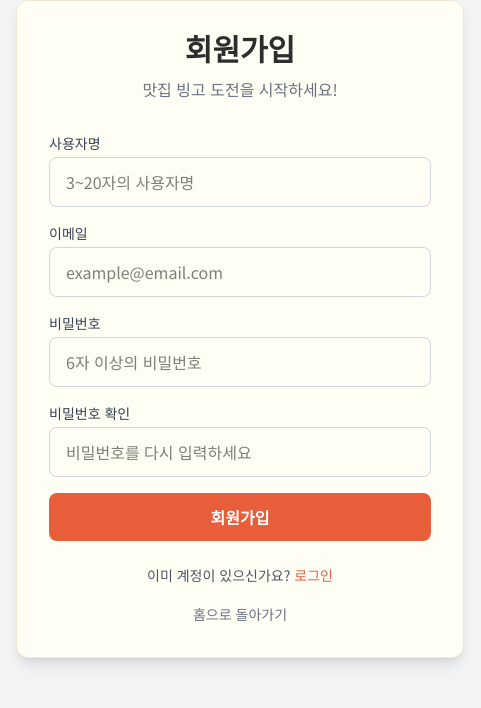
Test: RegisterPage › 에러 처리 › 입력 시 해당 필드의 에러가 제거되어야 한다
Type "test" into the field labelled "사용자명".
click(240, 182); type("test")  # box x1=49 y1=157 x2=431 y2=207
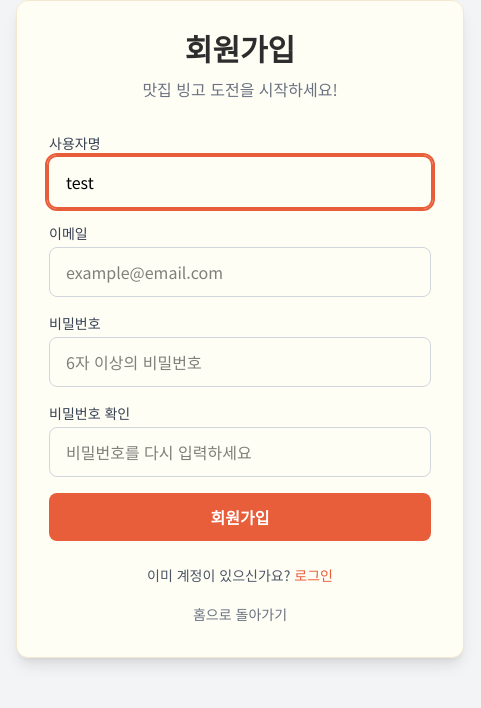
Type "test@test.com" into the field labelled "이메일".
click(240, 272); type("test@test.com")  # box x1=49 y1=247 x2=431 y2=297
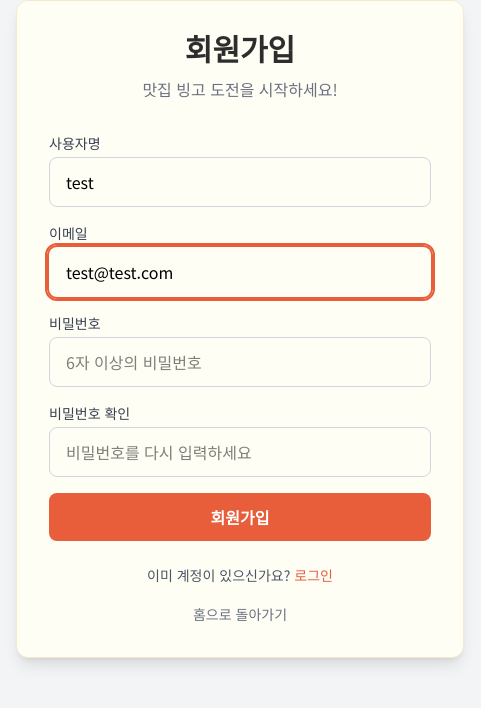
Type "password123" into the password field labelled "비밀번호".
click(240, 362); type("password123")  # box x1=49 y1=337 x2=431 y2=387
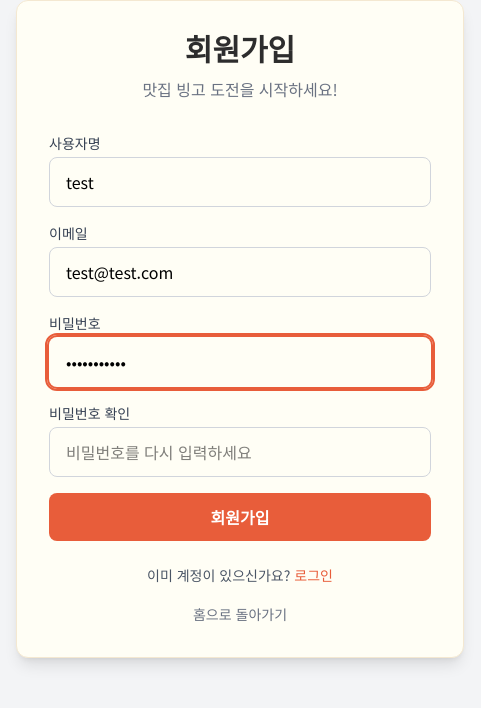
Type "password123" into the password field labelled "비밀번호 확인".
click(240, 452); type("password123")  # box x1=49 y1=427 x2=431 y2=477
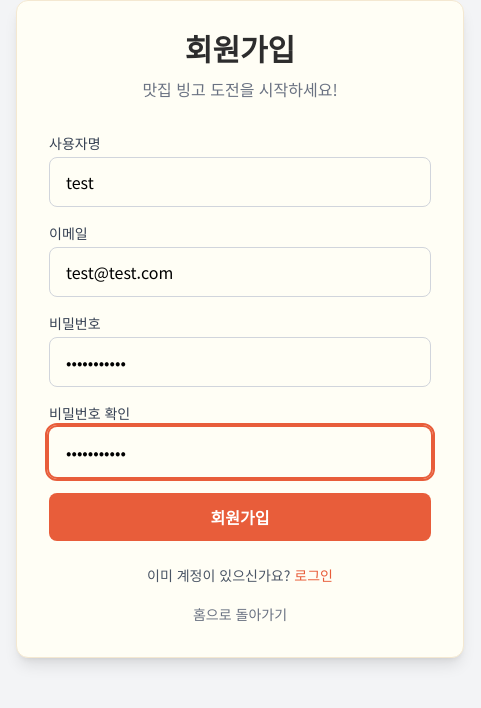
Click the button "회원가입".
click(240, 517)  # box x1=49 y1=493 x2=431 y2=541
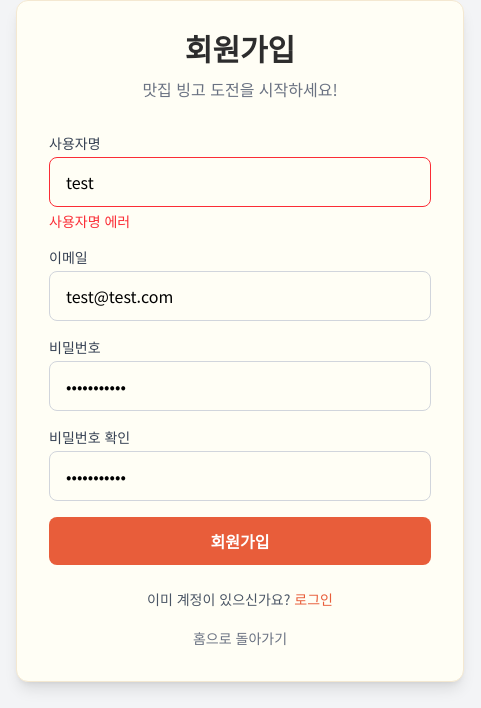
expect the text "사용자명 에러" is shown: met, box x1=49 y1=211 x2=130 y2=231
# 사용자명 필드에 입력하면 에러가 사라져야 함
Type "user" into the field labelled "사용자명".
click(240, 182); type("user")  # box x1=49 y1=157 x2=431 y2=207
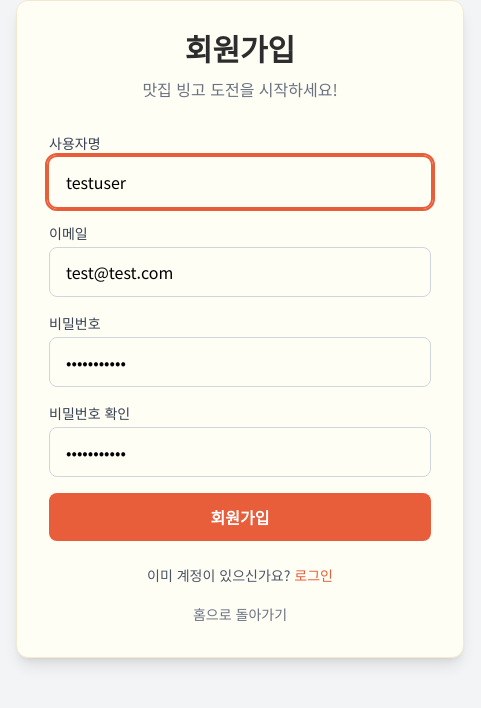
expect the text "사용자명 에러" is gone: met
